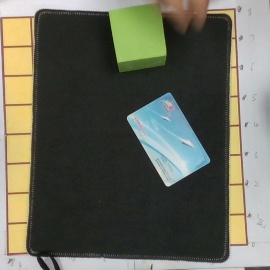card: (126, 92, 210, 187)
